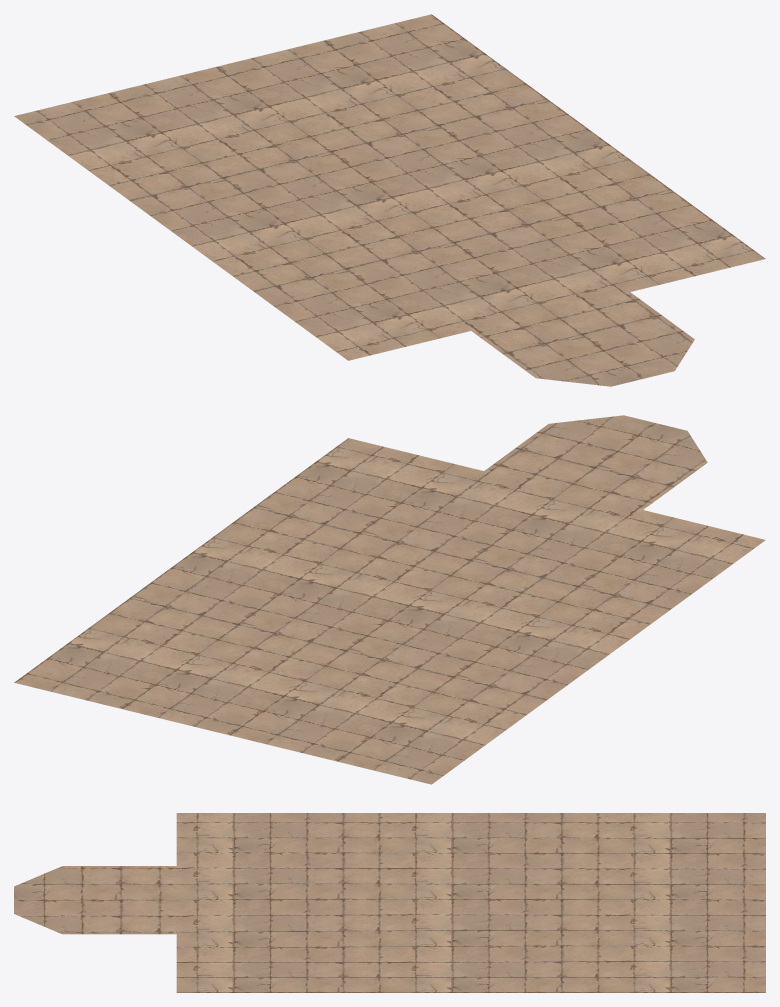
Rendered from Ground21_Build_LostTemple_002.FBX.
3 renders of one model, top to bottom at view 1: azimuth 30°, elevation 25°; view 2: azimuth 150°, elevation 25°; view 3: azimuth 270°, elevation 25°, orthographic. The views are drawn at different scales.
Parts seen in each view (by area): view 1: Ground21_Build_LostTemple_002; view 2: Ground21_Build_LostTemple_002; view 3: Ground21_Build_LostTemple_002.
Part boxes in pixels (left/top/right/bottom): Ground21_Build_LostTemple_002: left=14, top=14, right=765, bottom=386; Ground21_Build_LostTemple_002: left=14, top=415, right=765, bottom=784; Ground21_Build_LostTemple_002: left=14, top=813, right=765, bottom=992.
Size of the model in its own units: 1334 by 0.000495 by 2359.
Materials: 1 (1 with a texture image).
